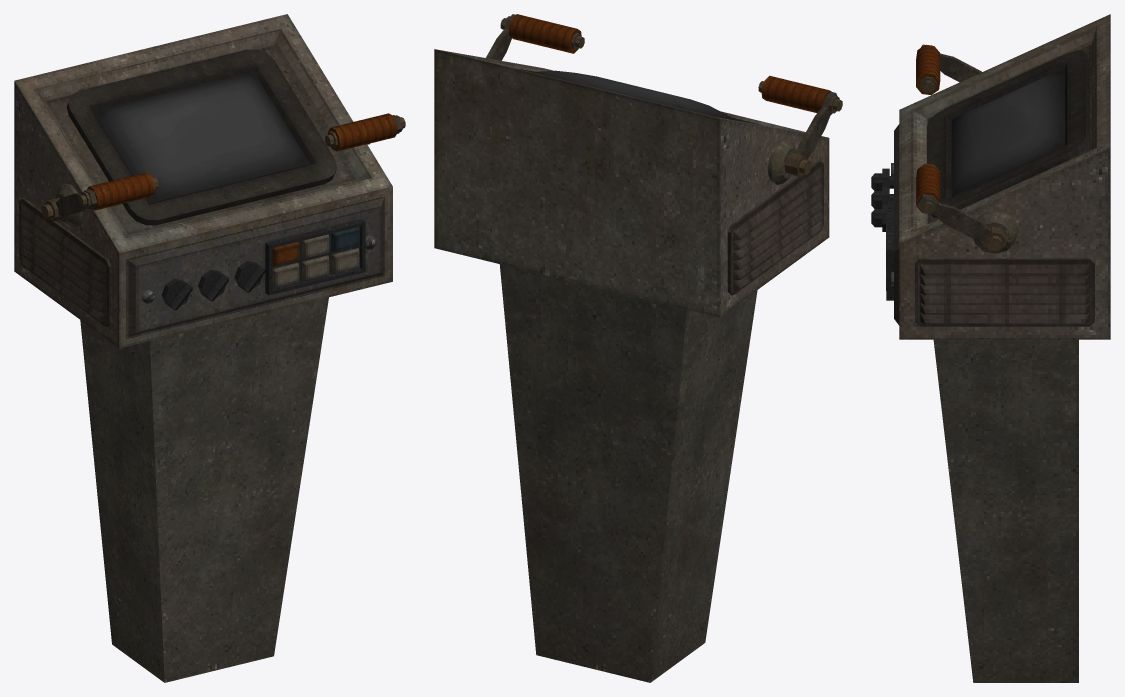
File: control_panel_etx_1.glb
3 renders of one model, left to right at view 1: azimuth 30°, elevation 25°; view 2: azimuth 150°, elevation 25°; view 3: azimuth 270°, elevation 25°, orthographic. The views are drawn at different scales.
Visible parts, largest first — view 1: control_panel_etx_1, control_panel_etx_1_round_screen, control_panel_etx_1_knob_child; view 2: control_panel_etx_1, control_panel_etx_1_round_screen; view 3: control_panel_etx_1, control_panel_etx_1_round_screen, control_panel_etx_1_knob_child.
Boxes of the visible parts, x1,y1,x2,y2 form: control_panel_etx_1: [14, 14, 405, 682]; control_panel_etx_1_round_screen: [93, 71, 309, 202]; control_panel_etx_1_knob_child: [161, 278, 192, 310]; control_panel_etx_1: [434, 14, 842, 682]; control_panel_etx_1_round_screen: [532, 70, 733, 119]; control_panel_etx_1: [871, 14, 1110, 682]; control_panel_etx_1_round_screen: [951, 69, 1065, 196]; control_panel_etx_1_knob_child: [871, 168, 893, 190].
Size of the model in its own units: 0.711 by 1.19 by 0.4485.
Materials: 2 (2 with a texture image).
